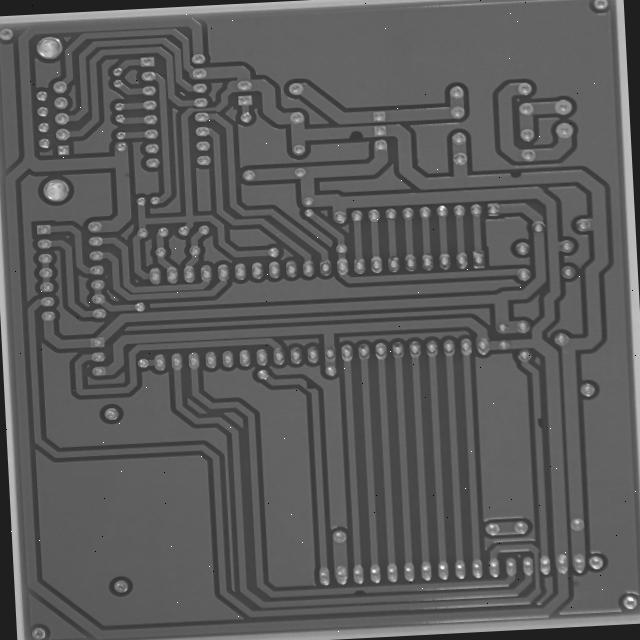mouse_bite: (503, 169, 528, 184), (343, 128, 369, 142), (531, 414, 548, 434), (299, 378, 319, 395), (347, 586, 371, 597)
